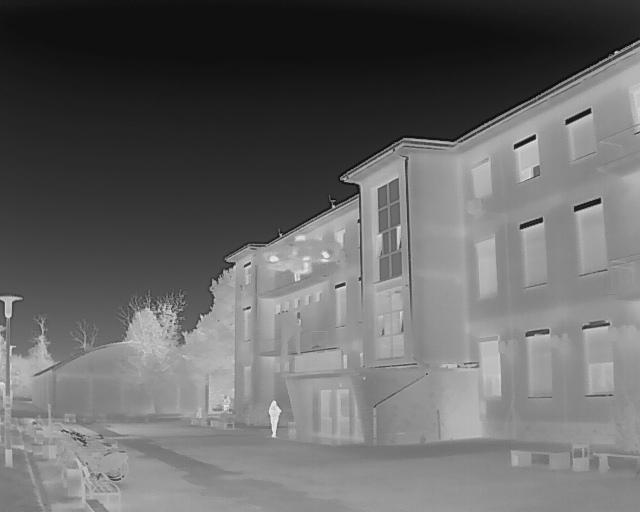drone: (245, 228, 348, 279)
